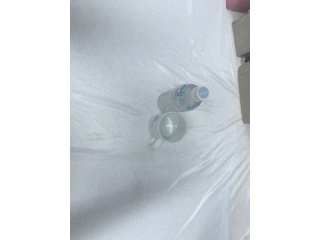bottle: (157, 84, 209, 113)
cup: (144, 112, 189, 152)
